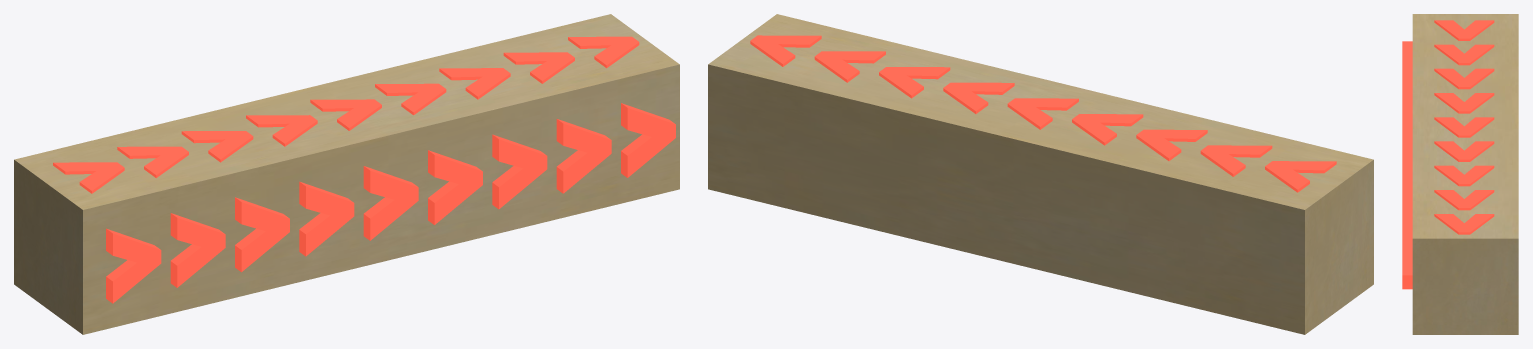
File: speedup.fbx
The picture shows the model from 3 angles, left to right: view 1: azimuth 30°, elevation 25°; view 2: azimuth 150°, elevation 25°; view 3: azimuth 270°, elevation 25°; orthographic projection. The views are drawn at different scales.
Parts seen in each view (by area): view 1: tile, arrow2, arrow1; view 2: tile, arrow1; view 3: tile, arrow1, arrow2.
Boxes of the visible parts, box(x1,y1,x2,y2) form: tile: box(14, 14, 679, 334); arrow2: box(106, 103, 675, 303); arrow1: box(53, 36, 639, 193); tile: box(708, 14, 1373, 334); arrow1: box(750, 35, 1336, 192); tile: box(1412, 14, 1518, 334); arrow1: box(1434, 20, 1494, 234); arrow2: box(1402, 41, 1412, 289).
Size of the model in its own units: 500 by 102 by 110.
2 materials, 1 textured.
